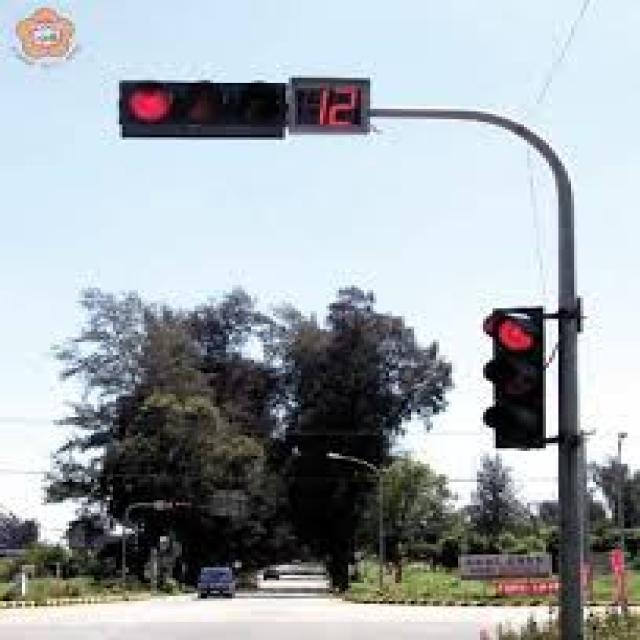red: (490, 314, 549, 356), (118, 86, 177, 127)
